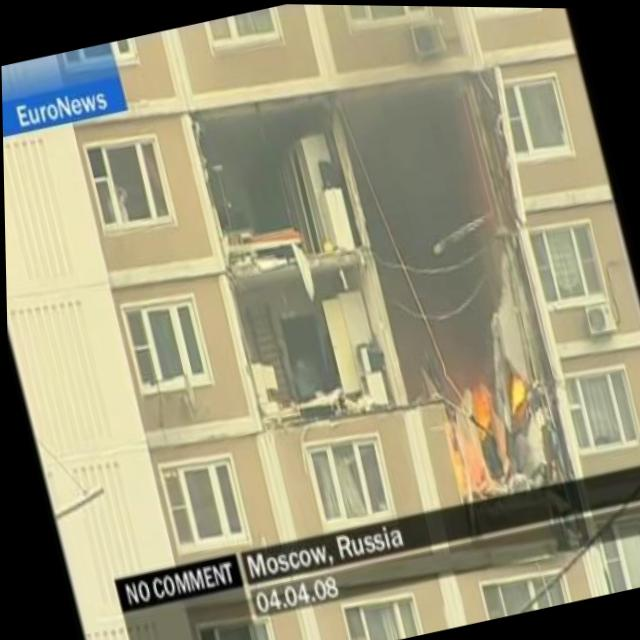fire: (456, 365, 504, 443), (502, 365, 533, 416)
